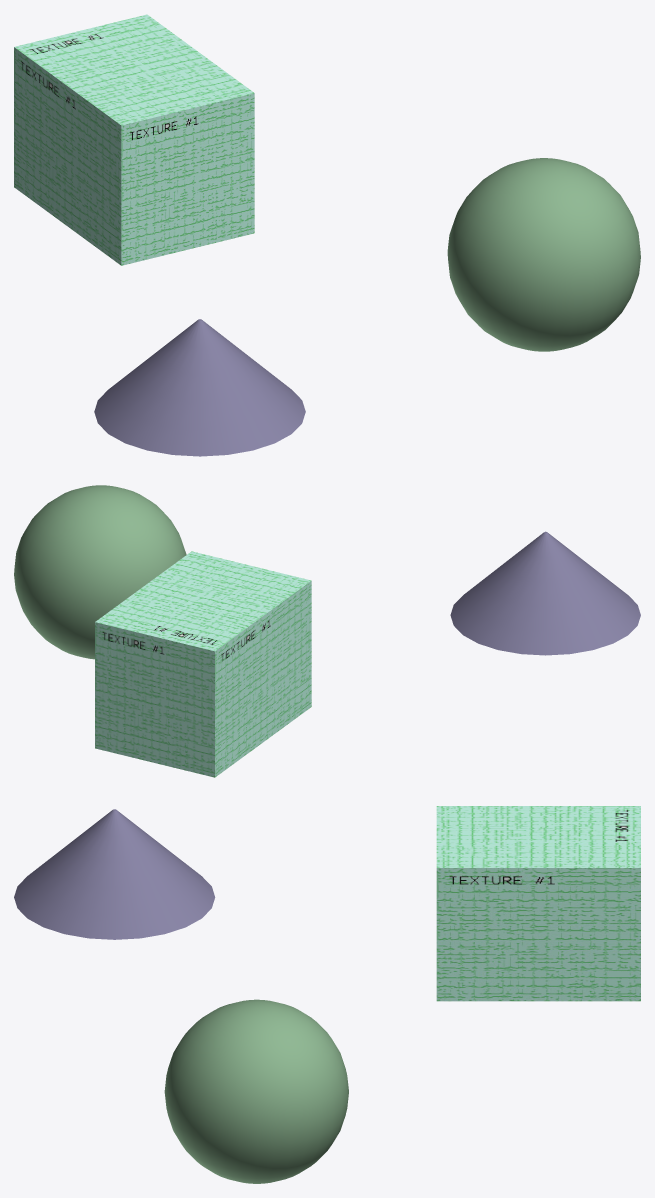
File: animated_param.dae
3 renders of one model, top to bottom at view 1: azimuth 30°, elevation 25°; view 2: azimuth 150°, elevation 25°; view 3: azimuth 270°, elevation 25°, orthographic. The views are drawn at different scales.
Visible parts, largest first — view 1: Box01, Sphere01, Cone01; view 2: Box01, Sphere01, Cone01; view 3: Box01, Sphere01, Cone01.
Boxes of the visible parts, x1=… form: Box01: x1=14, y1=14, x2=254, y2=265; Sphere01: x1=447, y1=158, x2=640, y2=351; Cone01: x1=94, y1=319, x2=305, y2=456; Box01: x1=95, y1=551, x2=311, y2=777; Sphere01: x1=14, y1=485, x2=186, y2=659; Cone01: x1=450, y1=531, x2=640, y2=655; Box01: x1=436, y1=806, x2=640, y2=1001; Sphere01: x1=164, y1=999, x2=348, y2=1183; Cone01: x1=14, y1=809, x2=215, y2=939.
Bounding box in the file's own units: 113 × 109 × 41.48.
Materials: 3 (1 with a texture image).
